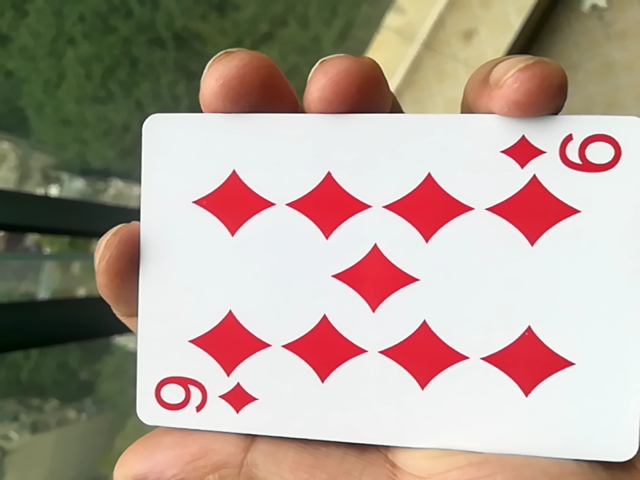fk 9: (122, 118, 638, 468)
